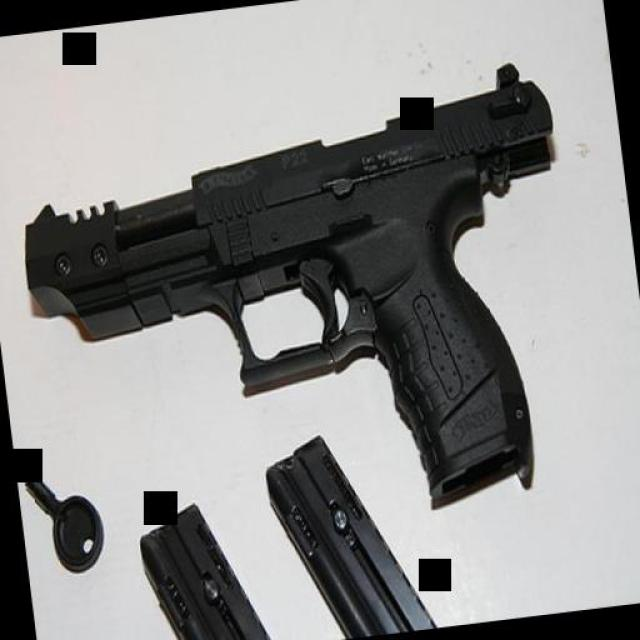gun: (5, 56, 597, 559)
